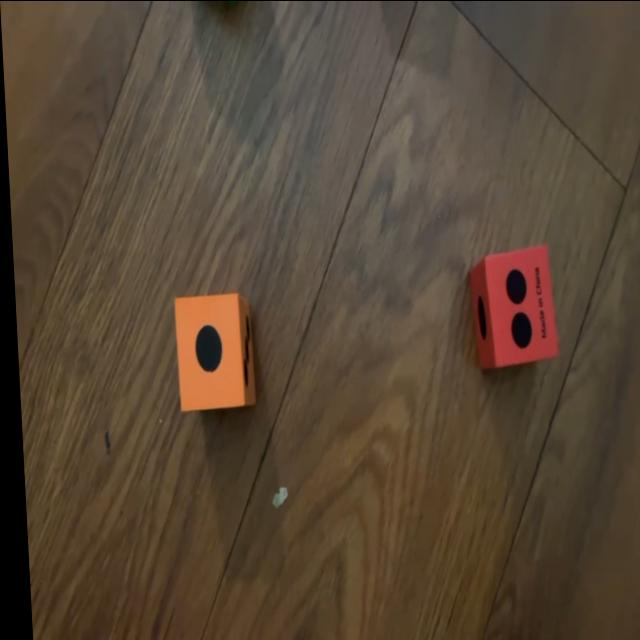cube: (465, 245, 554, 369)
